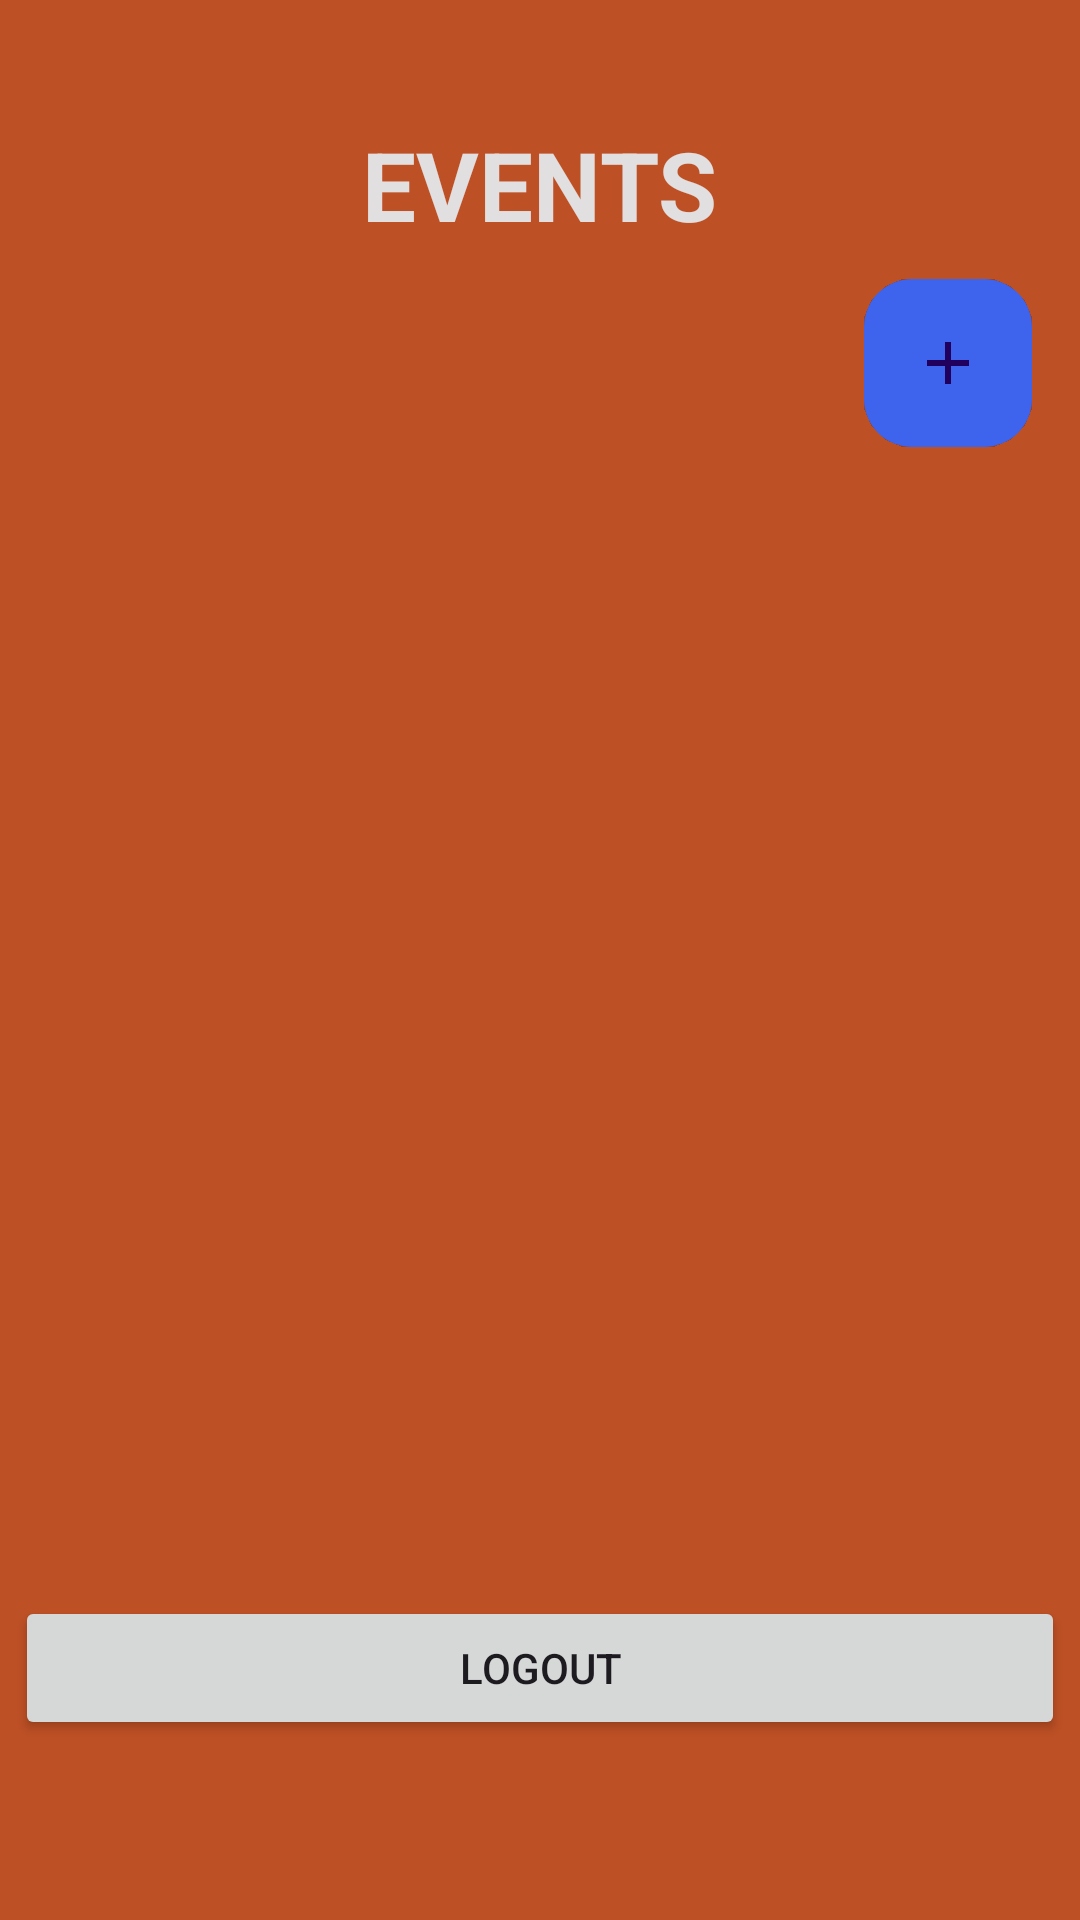

Icon click points for this 1080*1920 phone screenshot, format [x,y]:
add: [948,363]
